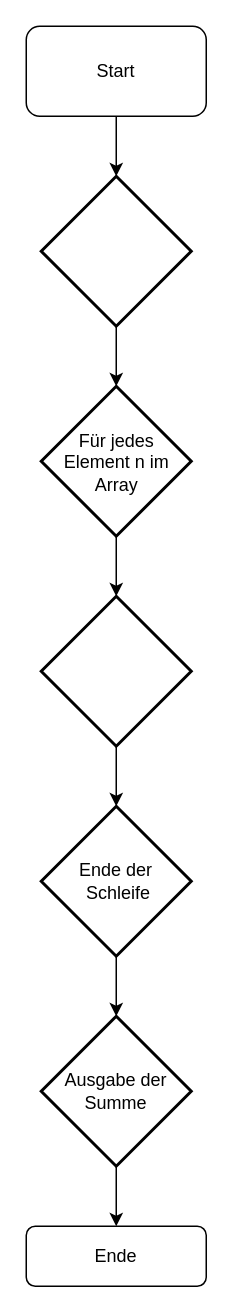
The diagram is 233 pixels wide and 1313 high, and some of its shapes have lost their labels. Here are the shapes that lost their labels. From the top down, the centre of each, then its label:
At point (115, 250): "Initialisiere Summe = 0".
At point (115, 670): "Addiere n zur Summe".
